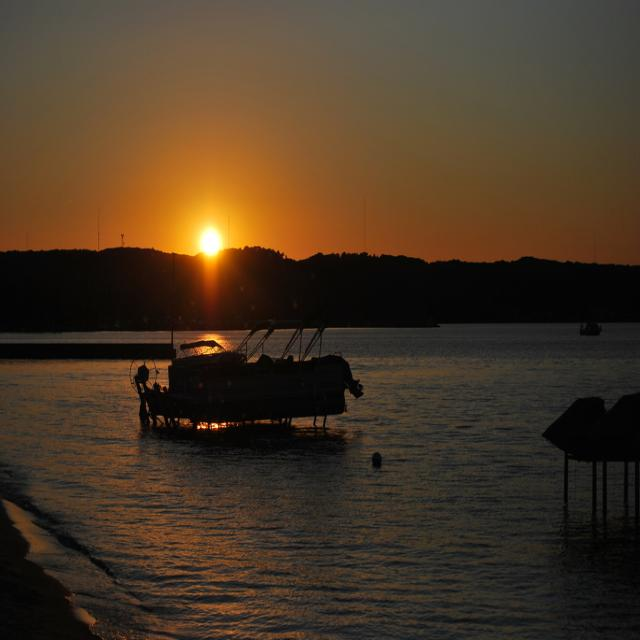Boat: (130, 308, 371, 441)
